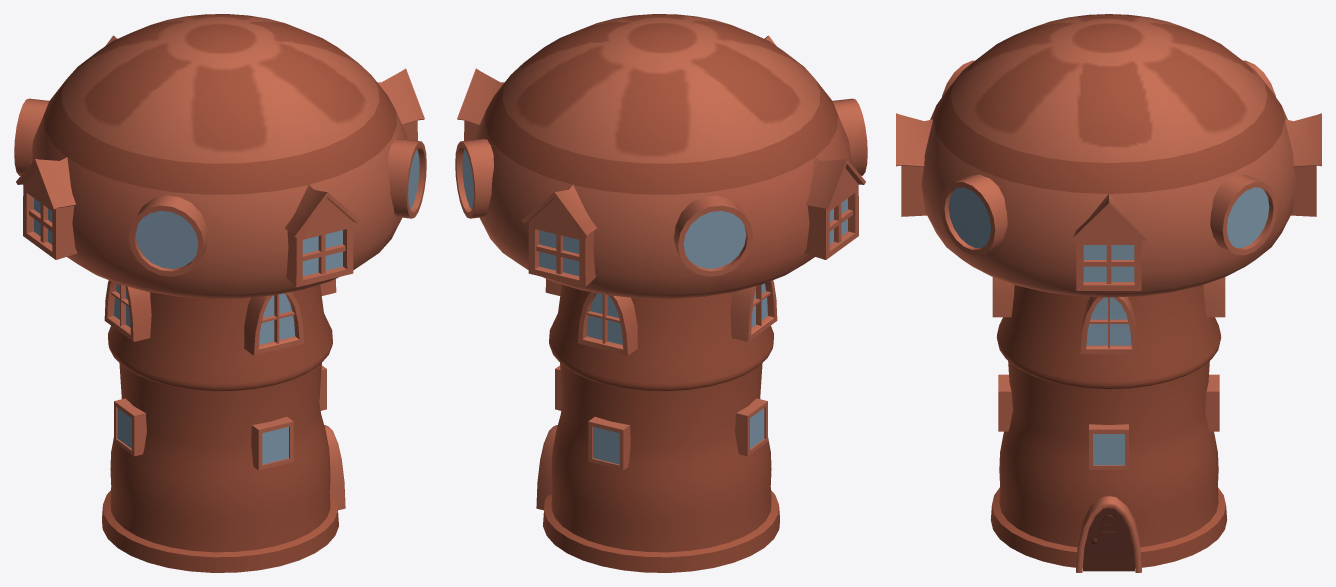
The model's file is moguwu_01.FBX.
3 views of the same model, side by side, from view 1: azimuth 30°, elevation 25°; view 2: azimuth 150°, elevation 25°; view 3: azimuth 270°, elevation 25° (orthographic).
Parts seen in each view (by area): view 1: moguwu_01; view 2: moguwu_01; view 3: moguwu_01.
Part boxes in pixels (left/top/right/bottom): moguwu_01: left=14, top=14, right=426, bottom=572; moguwu_01: left=455, top=14, right=867, bottom=572; moguwu_01: left=896, top=14, right=1321, bottom=572.
Size of the model in its own units: 426 by 535 by 426.
